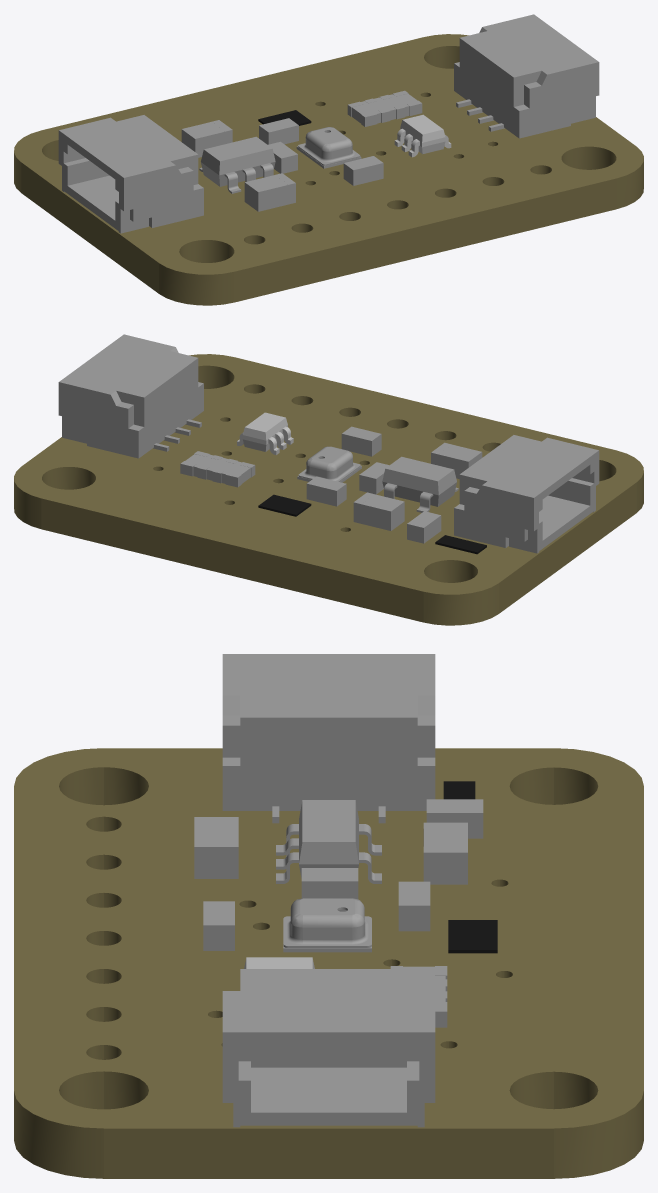
Rendered from ada-4494.glb.
3 views of the same model, one above another, from view 1: azimuth 30°, elevation 25°; view 2: azimuth 150°, elevation 25°; view 3: azimuth 270°, elevation 25° (orthographic). The views are drawn at different scales.
Parts seen in each view (by area): view 1: 0.16666666666666666_0.16666666666666666_0.08333333333333333_, 0.3333333333333333_0.3333333333333333_0.3333333333333333_0, 0.5_0.5_0.5_0.85, 0_0_0_0; view 2: 0.16666666666666666_0.16666666666666666_0.08333333333333333_, 0.3333333333333333_0.3333333333333333_0.3333333333333333_0, 0.5_0.5_0.5_0.85, 0_0_0_0; view 3: 0.16666666666666666_0.16666666666666666_0.08333333333333333_, 0.3333333333333333_0.3333333333333333_0.3333333333333333_0, 0_0_0_0, 0.5_0.5_0.5_0.85.
Boxes of the visible parts, x1,y1,x2,y2 form: 0.16666666666666666_0.16666666666666666_0.08333333333333333_: [14, 34, 643, 305]; 0.3333333333333333_0.3333333333333333_0.3333333333333333_0: [58, 14, 599, 233]; 0.5_0.5_0.5_0.85: [394, 114, 451, 157]; 0_0_0_0: [258, 110, 311, 125]; 0.16666666666666666_0.16666666666666666_0.08333333333333333_: [14, 354, 643, 625]; 0.3333333333333333_0.3333333333333333_0.3333333333333333_0: [58, 334, 599, 553]; 0.5_0.5_0.5_0.85: [237, 412, 293, 455]; 0_0_0_0: [258, 494, 486, 554]; 0.16666666666666666_0.16666666666666666_0.08333333333333333_: [14, 748, 643, 1178]; 0.3333333333333333_0.3333333333333333_0.3333333333333333_0: [194, 654, 483, 1127]; 0_0_0_0: [443, 781, 497, 953]; 0.5_0.5_0.5_0.85: [244, 957, 314, 968].
Bounding box in the file's own units: 2.54 × 0.4529 × 1.78.
